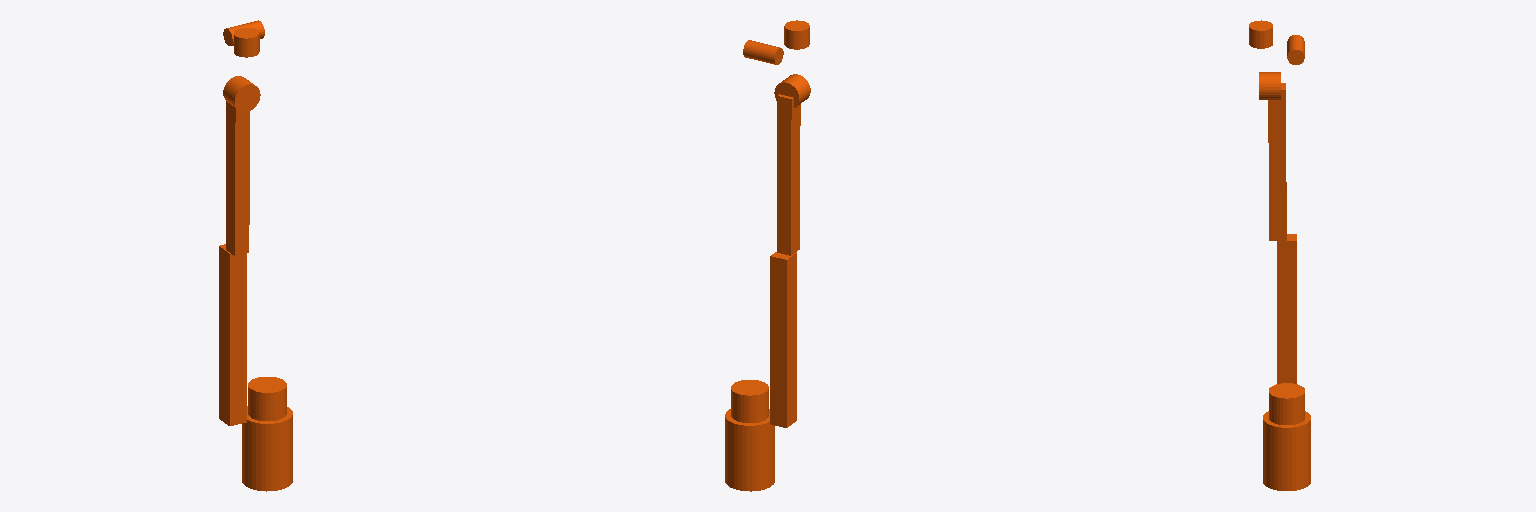
The robot description file, URDF, robot "uarm_config2_leader":
<?xml version="1.0"?>
<robot name="uarm_config2_leader">
  <!-- Config 2 leader. Joint frames match RealMan ECO63 so the same joint angle has the same pose.
       The U-Arm repository ships STL parts without joint origins, so the visuals are primitives. -->
  <material name="leader_orange">
    <color rgba="0.93 0.42 0.08 1"/>
  </material>
  <link name="base_root"/>
  <joint name="base_root_joint" type="fixed">
    <origin xyz="0 0 0" rpy="0 0 0"/>
    <parent link="base_root"/>
    <child link="base_link"/>
  </joint>
  <link name="base_link">
    <visual>
      <origin xyz="0 0 0.08" rpy="0 0 0"/>
      <geometry><cylinder radius="0.055" length="0.16"/></geometry>
      <material name="leader_orange"/>
    </visual>
  </link>
  <joint name="joint1" type="revolute">
    <origin xyz="0 0 0.1625" rpy="0 0 0"/>
    <parent link="base_link"/>
    <child link="Link1"/>
    <axis xyz="0 0 1"/>
    <limit effort="10" velocity="3" lower="-3.106" upper="3.106"/>
  </joint>
  <link name="Link1">
    <visual>
      <origin xyz="0 0 0.03" rpy="0 0 0"/>
      <geometry><cylinder radius="0.042" length="0.07"/></geometry>
      <material name="leader_orange"/>
    </visual>
  </link>
  <joint name="joint2" type="revolute">
    <origin xyz="-0.086 0 0" rpy="-1.570793 -1.570793 3.141593"/>
    <parent link="Link1"/>
    <child link="Link2"/>
    <axis xyz="0 0 -1"/>
    <limit effort="10" velocity="3" lower="-3.106" upper="2.356"/>
  </joint>
  <link name="Link2">
    <visual>
      <origin xyz="0.205 0 0" rpy="0 0 0"/>
      <geometry><box size="0.41 0.042 0.046"/></geometry>
      <material name="leader_orange"/>
    </visual>
  </link>
  <joint name="joint3" type="revolute">
    <origin xyz="0.41 0 0" rpy="-3.141586 -0.008727 0"/>
    <parent link="Link2"/>
    <child link="Link3"/>
    <axis xyz="-0.008726 0 0.999962"/>
    <limit effort="10" velocity="3" lower="-2.932" upper="2.7576"/>
  </joint>
  <link name="Link3">
    <visual>
      <origin xyz="0.19 0 -0.02" rpy="0 0 0"/>
      <geometry><box size="0.38 0.036 0.04"/></geometry>
      <material name="leader_orange"/>
    </visual>
  </link>
  <joint name="joint4" type="revolute">
    <origin xyz="0.3805 0 -0.055581" rpy="-0.008727 0 1.5708"/>
    <parent link="Link3"/>
    <child link="Link4"/>
    <axis xyz="0 0 1"/>
    <limit effort="10" velocity="3" lower="-3.106" upper="3.106"/>
  </joint>
  <link name="Link4">
    <visual>
      <origin xyz="0 0 0.02" rpy="0 0 0"/>
      <geometry><cylinder radius="0.032" length="0.05"/></geometry>
      <material name="leader_orange"/>
    </visual>
  </link>
  <joint name="joint5" type="revolute">
    <origin xyz="0 -0.11 0" rpy="1.5708 0 0"/>
    <parent link="Link4"/>
    <child link="Link5"/>
    <axis xyz="0 0 1"/>
    <limit effort="10" velocity="3" lower="-3.106" upper="3.106"/>
  </joint>
  <link name="Link5">
    <visual>
      <origin xyz="0 0 0.02" rpy="0 0 0"/>
      <geometry><cylinder radius="0.028" length="0.045"/></geometry>
      <material name="leader_orange"/>
    </visual>
  </link>
  <joint name="joint6" type="revolute">
    <origin xyz="0 0.0795 0" rpy="-1.5708 0 0"/>
    <parent link="Link5"/>
    <child link="Link6"/>
    <axis xyz="0 0 1"/>
    <limit effort="10" velocity="3" lower="-6.28" upper="6.28"/>
  </joint>
  <link name="Link6">
    <visual>
      <origin xyz="0.04 0 0" rpy="0 1.5708 0"/>
      <geometry><cylinder radius="0.02" length="0.08"/></geometry>
      <material name="leader_orange"/>
    </visual>
  </link>
</robot>

--- What the picture shows (computed from the rendered views, not written in the file) ---
3 views of the same robot in one strip: view 1: azimuth 30°, elevation 25°; view 2: azimuth 150°, elevation 25°; view 3: azimuth 270°, elevation 25° (orthographic).
Robot: uarm_config2_leader — 8 links, 7 joints (6 revolute, 1 fixed); root link base_root; default pose: every joint at zero.
Visible links, largest first — view 1: Link2, base_link, Link3, Link1, Link4, Link5; view 2: Link2, Link3, base_link, Link1, Link4, Link6, Link5; view 3: base_link, Link2, Link3, Link1, Link5, Link4.
Boxes of the visible links, x1=… form: Link2: x1=219, y1=244, x2=246, y2=425; base_link: x1=242, y1=406, x2=292, y2=491; Link3: x1=226, y1=101, x2=249, y2=255; Link1: x1=248, y1=377, x2=286, y2=420; Link4: x1=223, y1=76, x2=260, y2=111; Link5: x1=234, y1=28, x2=259, y2=57; Link2: x1=770, y1=252, x2=796, y2=427; Link3: x1=777, y1=94, x2=800, y2=255; base_link: x1=725, y1=409, x2=774, y2=491; Link1: x1=731, y1=380, x2=768, y2=422; Link4: x1=774, y1=74, x2=810, y2=107; Link6: x1=743, y1=40, x2=783, y2=64; Link5: x1=784, y1=20, x2=809, y2=49; base_link: x1=1263, y1=411, x2=1310, y2=490; Link2: x1=1277, y1=234, x2=1296, y2=383; Link3: x1=1268, y1=83, x2=1286, y2=240; Link1: x1=1269, y1=383, x2=1304, y2=424; Link5: x1=1249, y1=20, x2=1272, y2=48; Link4: x1=1259, y1=72, x2=1280, y2=99.
Size in the robot's own frame: 0.173 by 0.1419 by 1.1 metres.
Geometry: primitives only (box / cylinder / sphere), no mesh files.
